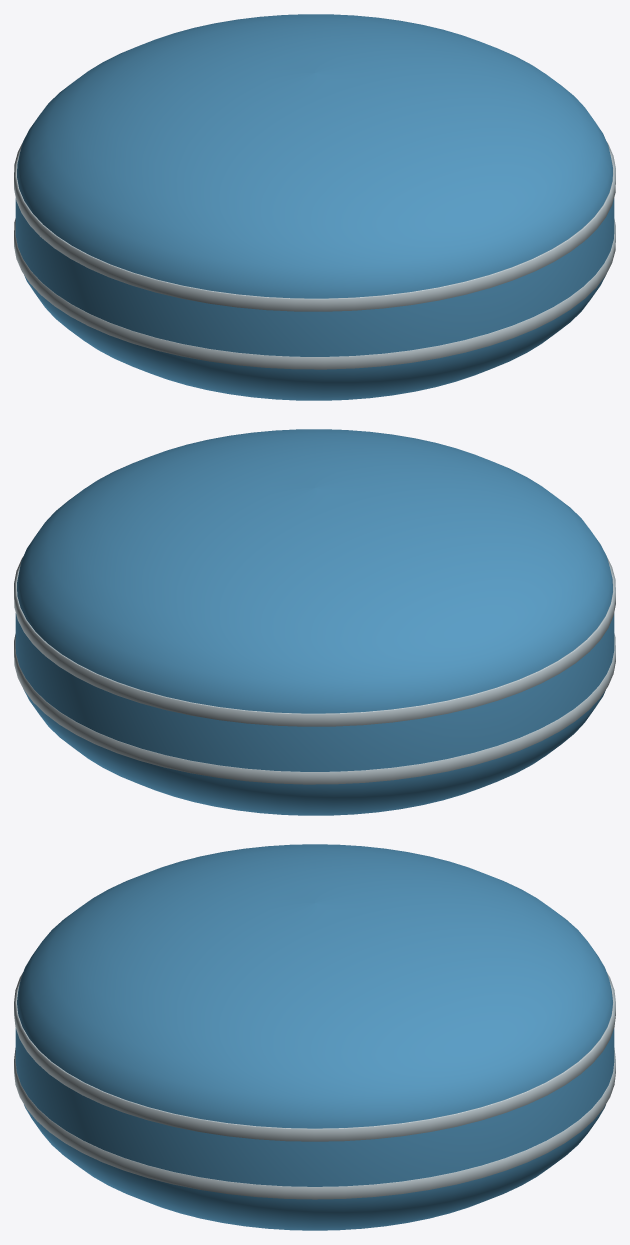
The model's file is s_ivb_lox_vessel.glb.
The picture shows the model from 3 angles, top to bottom: view 1: azimuth 30°, elevation 25°; view 2: azimuth 150°, elevation 25°; view 3: azimuth 270°, elevation 25°; orthographic projection.
Visible parts, largest first — view 1: s_ivbcutawaylox_tankmesh.mesh_Cutaway_•_liquid_oxygen, s_ivbcutawaylox_tankmesh.mesh_Satin_aluminum; view 2: s_ivbcutawaylox_tankmesh.mesh_Cutaway_•_liquid_oxygen, s_ivbcutawaylox_tankmesh.mesh_Satin_aluminum; view 3: s_ivbcutawaylox_tankmesh.mesh_Cutaway_•_liquid_oxygen, s_ivbcutawaylox_tankmesh.mesh_Satin_aluminum.
Boxes of the visible parts, x1=… form: s_ivbcutawaylox_tankmesh.mesh_Cutaway_•_liquid_oxygen: x1=15, y1=14, x2=614, y2=400; s_ivbcutawaylox_tankmesh.mesh_Satin_aluminum: x1=14, y1=141, x2=615, y2=369; s_ivbcutawaylox_tankmesh.mesh_Cutaway_•_liquid_oxygen: x1=15, y1=429, x2=614, y2=815; s_ivbcutawaylox_tankmesh.mesh_Satin_aluminum: x1=14, y1=556, x2=615, y2=784; s_ivbcutawaylox_tankmesh.mesh_Cutaway_•_liquid_oxygen: x1=15, y1=844, x2=614, y2=1230; s_ivbcutawaylox_tankmesh.mesh_Satin_aluminum: x1=14, y1=972, x2=615, y2=1199.
Size of the model in its own units: 5.95 by 2.93 by 5.95.
